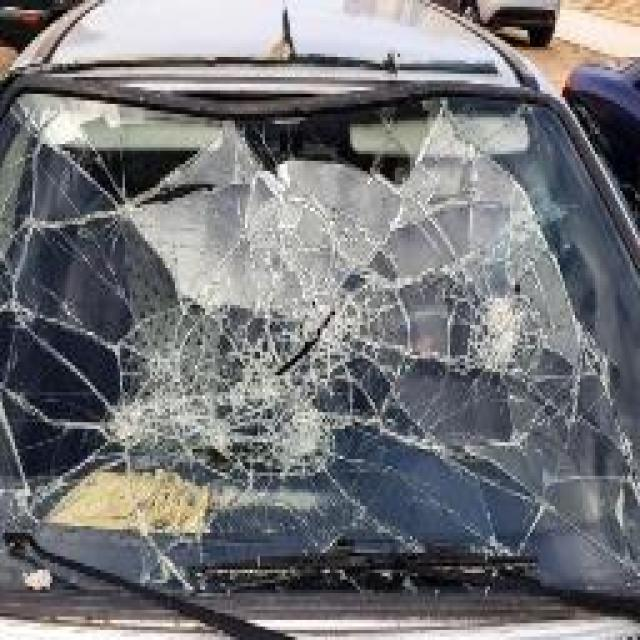Windshield: (12, 87, 640, 586)
